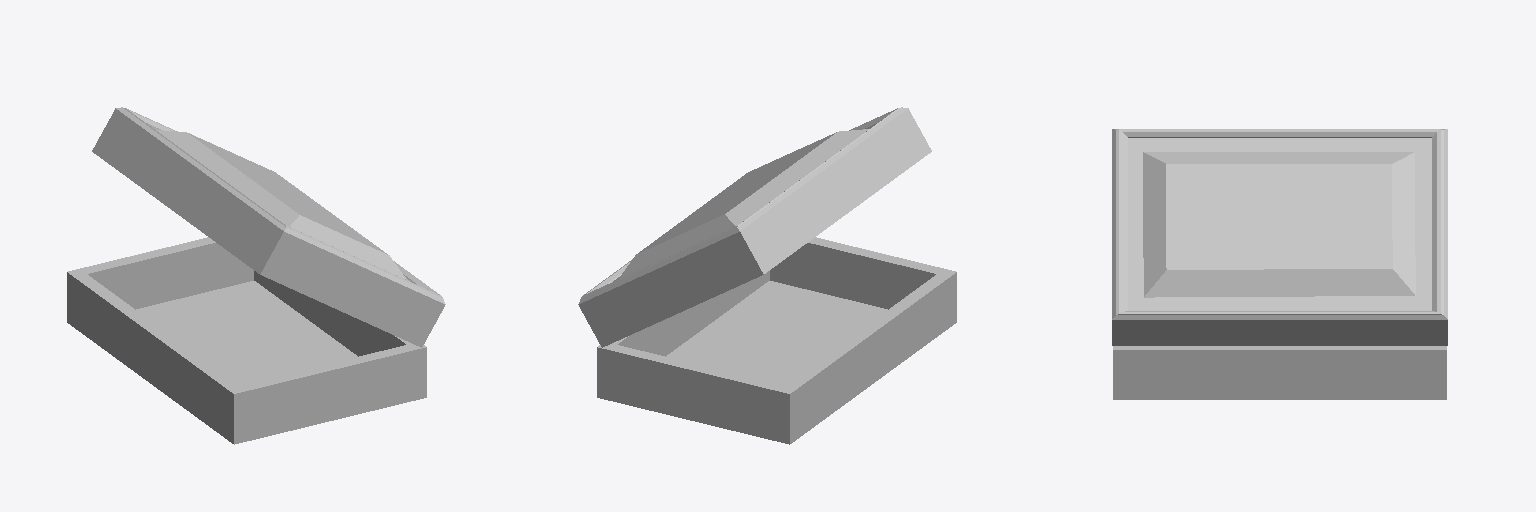
File: case_Low.obj
3 renders of one model, left to right at view 1: azimuth 30°, elevation 25°; view 2: azimuth 150°, elevation 25°; view 3: azimuth 270°, elevation 25°, orthographic.
Parts seen in each view (by area): view 1: Box_deckel; view 2: Box_deckel; view 3: Box_deckel.
Part boxes in pixels (x1,y1,x2,y2): Box_deckel: (67,107,445,444); Box_deckel: (578,107,956,444); Box_deckel: (1112,129,1447,399).
Size of the model in its own units: 49.35 by 45.44 by 68.13.